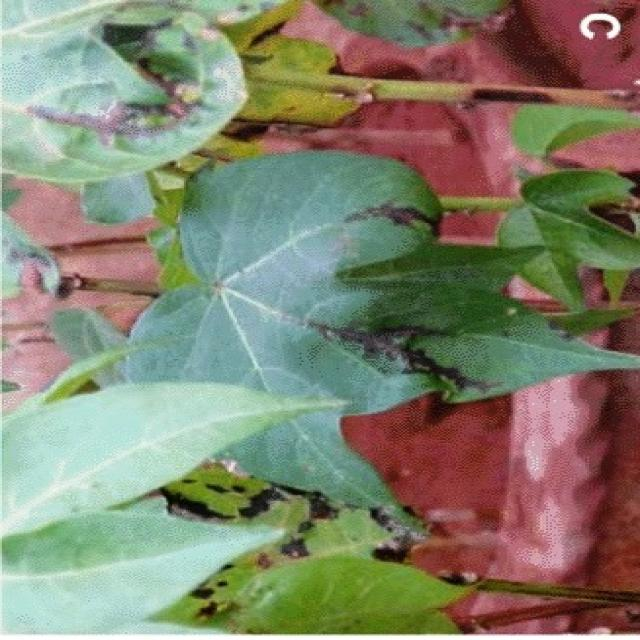Bacterial Blight: (261, 193, 514, 415)
